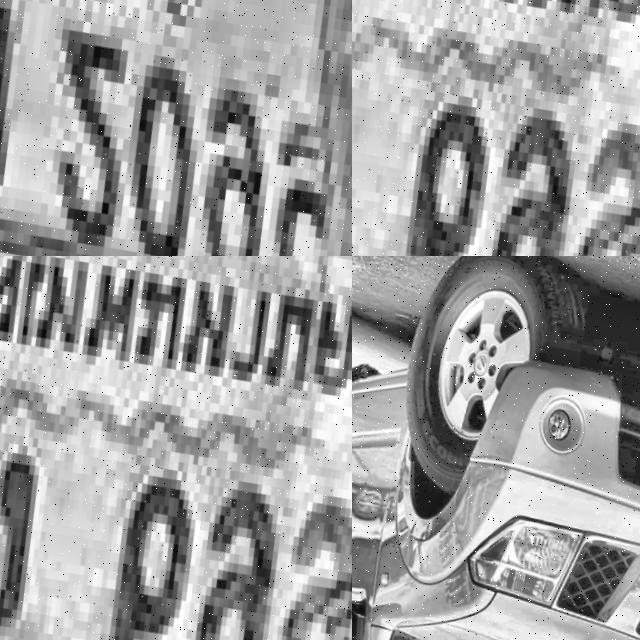license-plate: (0, 256, 352, 640), (0, 0, 352, 256), (352, 0, 640, 256)
